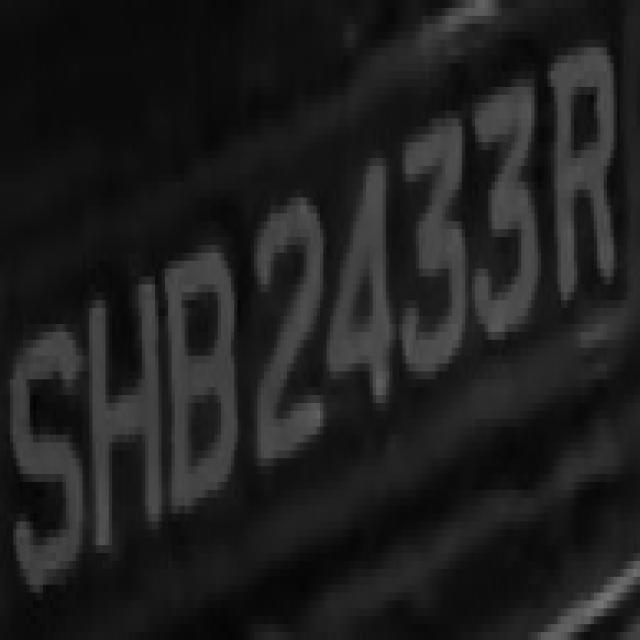2: (248, 174, 334, 498)
3: (458, 64, 534, 372), (389, 103, 465, 403)
4: (316, 126, 406, 442)
B: (165, 222, 237, 522)
H: (72, 261, 172, 577)
R: (548, 16, 624, 316)
S: (0, 284, 82, 624)
